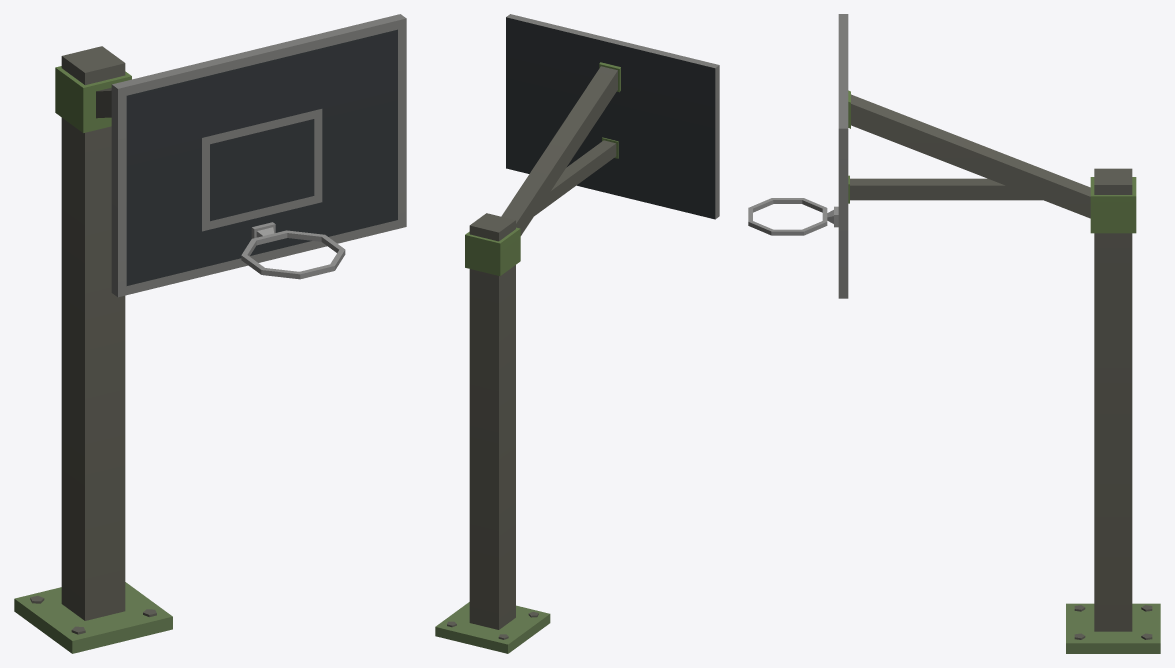
Rendered from Basketball_02.fbx.
3 renders of one model, left to right at view 1: azimuth 30°, elevation 25°; view 2: azimuth 150°, elevation 25°; view 3: azimuth 270°, elevation 25°, orthographic. The views are drawn at different scales.
Parts seen in each view (by area): view 1: Basketball_02; view 2: Basketball_02; view 3: Basketball_02.
Boxes of the visible parts, x1=… form: Basketball_02: x1=14, y1=14, x2=406, y2=653; Basketball_02: x1=435, y1=14, x2=719, y2=653; Basketball_02: x1=748, y1=14, x2=1160, y2=653.
Bounding box in the file's own units: 1.37 × 3.13 × 2.08.
